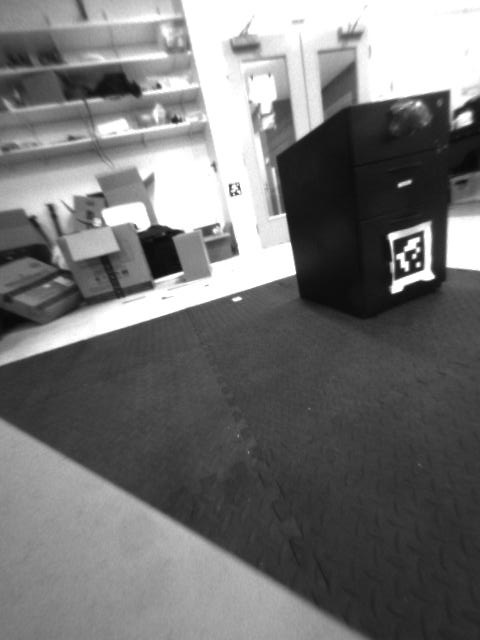drawer: (383, 99, 437, 137)
